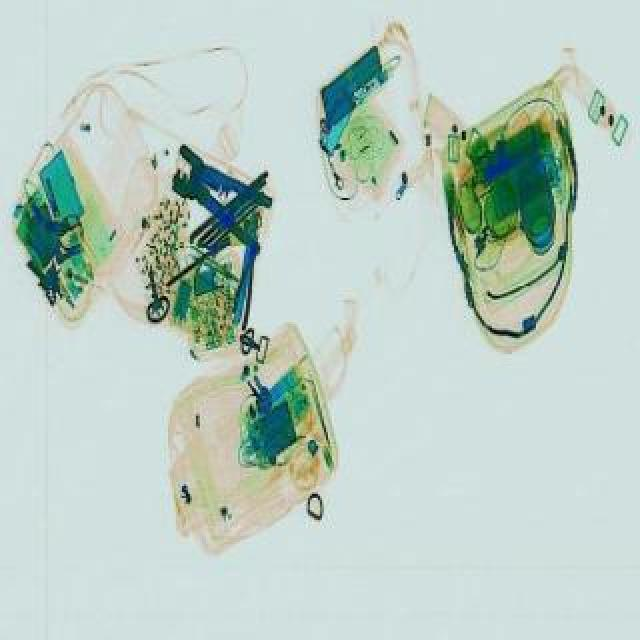wrench: (152, 144, 288, 252)
